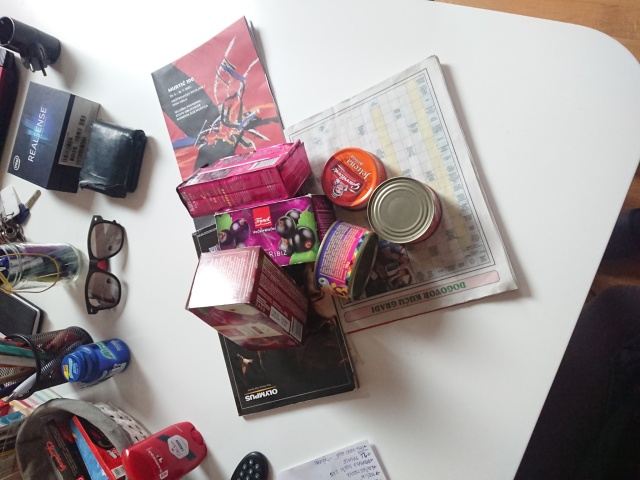Barcaffe Classic Original 225g: (174, 137, 314, 220)
Franck Apple Cinnamon Tea 60g: (183, 242, 312, 355)
Franck Black Currant Tea 60g: (211, 191, 345, 275)
Gavrilovic Pork Liver Pate 100g: (318, 145, 392, 213)
Giana Tuna Salad Mexico 185g: (310, 218, 381, 305)
Podravka Luncheon Meat 150g: (364, 174, 446, 247)
